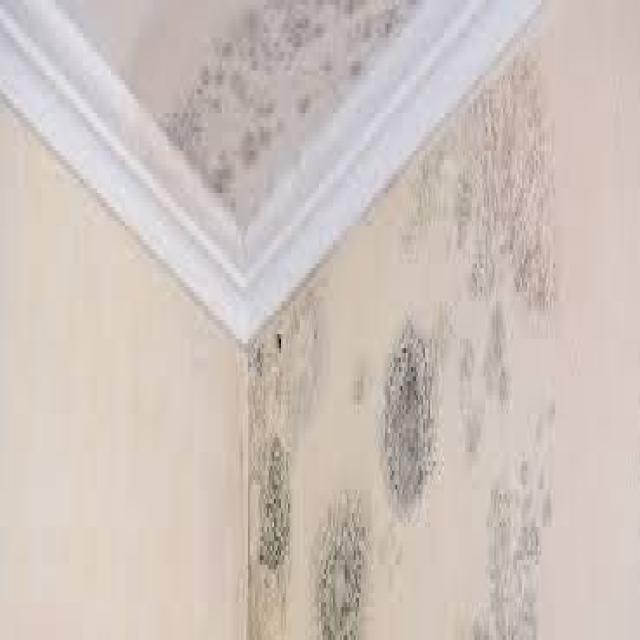stain_mould: (162, 1, 421, 203), (395, 50, 562, 307), (246, 271, 333, 571), (472, 429, 546, 639), (376, 315, 445, 523), (311, 498, 370, 639), (456, 349, 480, 450), (486, 309, 509, 410)
